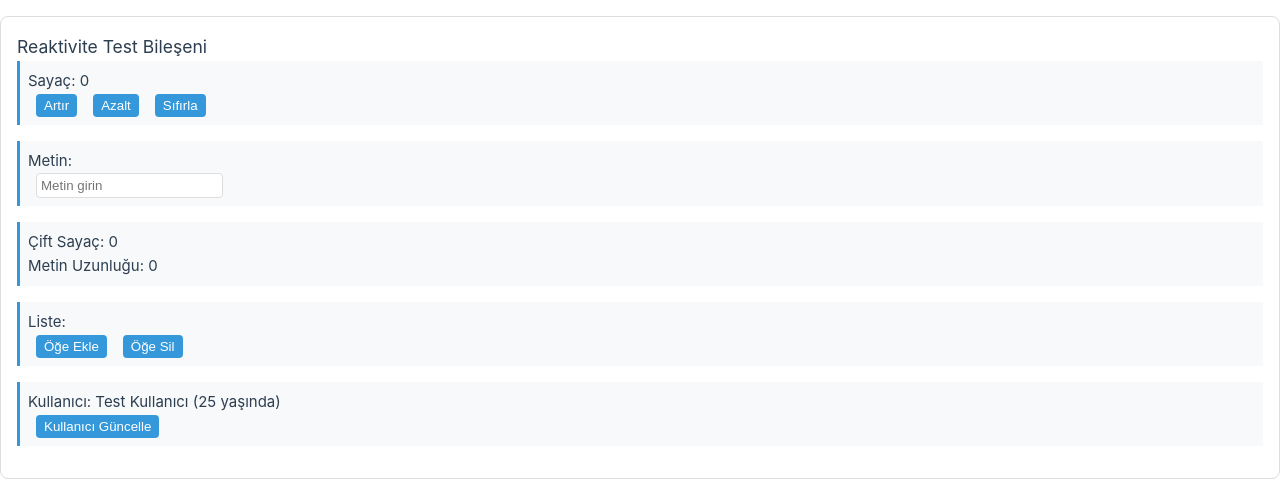
it: Feature: personel-yonetimi-altyapi, Property 1: Vue Reaktivite Sistemi › Unit Tests - Specific Examples › should handle button clicks
Test increment button
Click the button "Artır": (57, 106) x1=36 y1=94 x2=77 y2=117
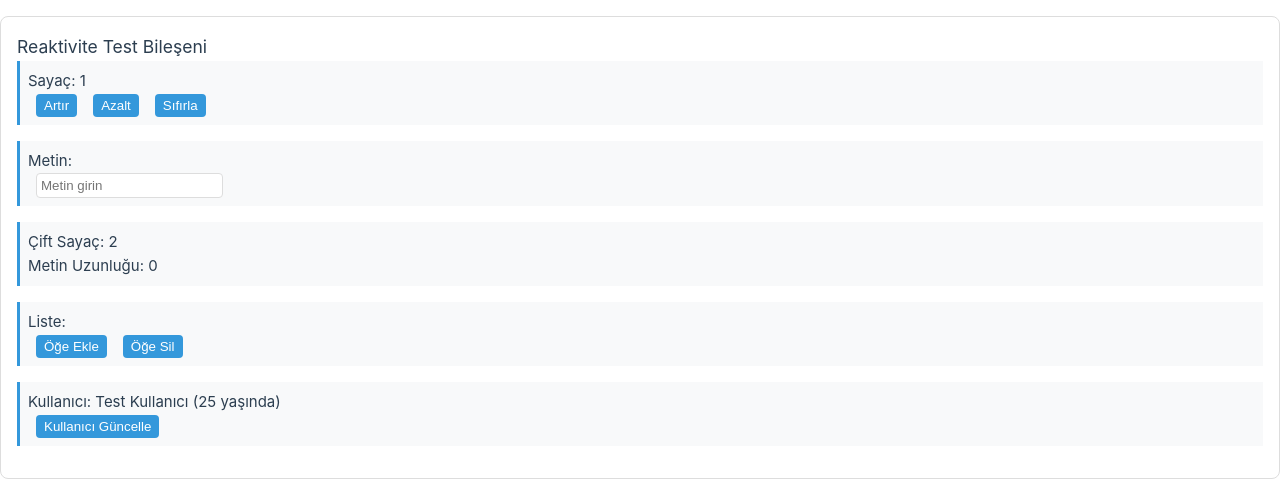
Expected: the text "Sayaç: 1" is shown, x1=28 y1=71 x2=86 y2=90
Expected: the text "Çift Sayaç: 2" is shown, x1=28 y1=232 x2=118 y2=251
